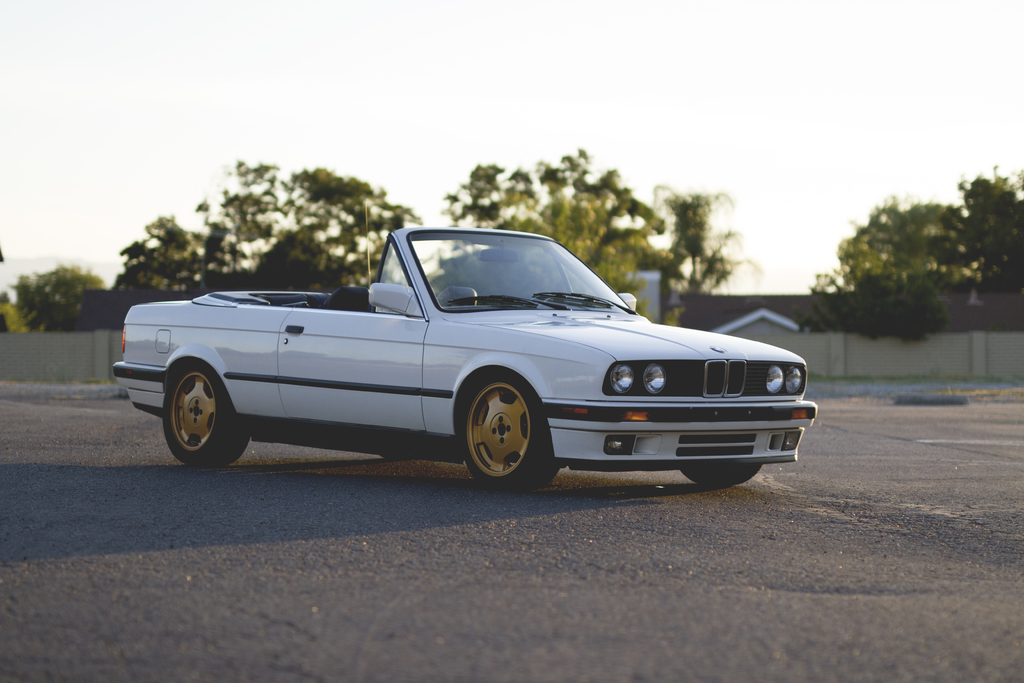cars: (118, 231, 825, 489)
